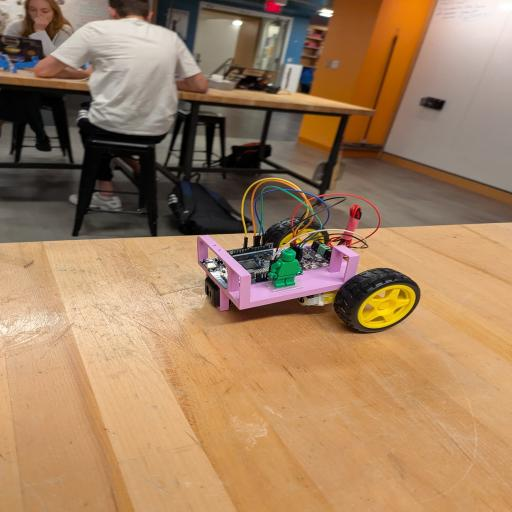Minifig: (269, 248, 303, 288)
